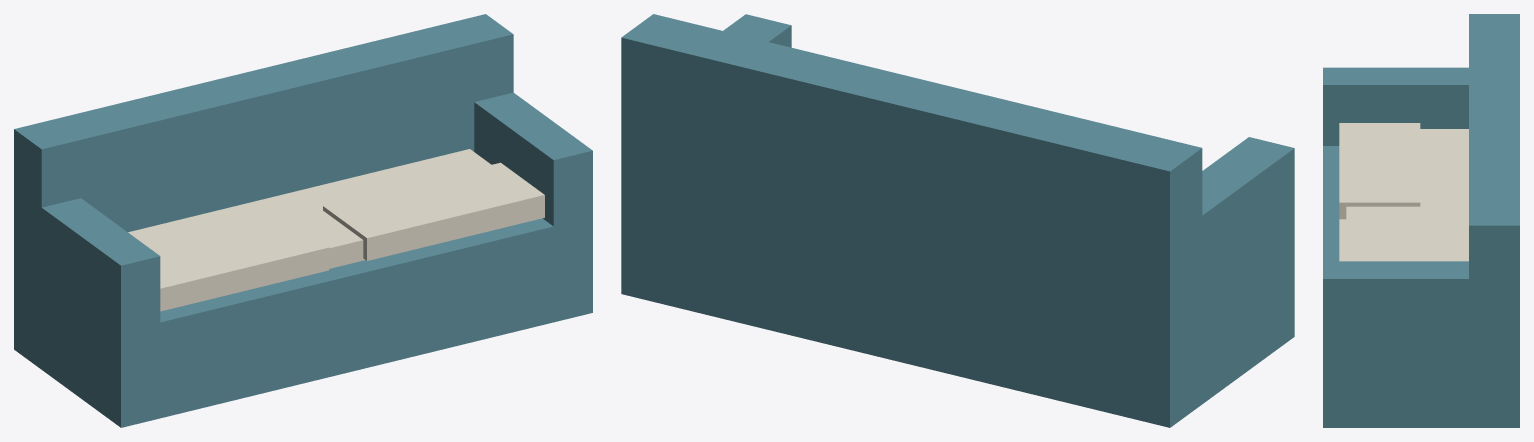
The model's file is mdl_furniture_sofa_001.glb.
3 views of the same model, side by side, from view 1: azimuth 30°, elevation 25°; view 2: azimuth 150°, elevation 25°; view 3: azimuth 270°, elevation 25° (orthographic). The views are drawn at different scales.
Parts seen in each view (by area): view 1: m_petroleo, m_crema; view 2: m_petroleo; view 3: m_petroleo, m_crema.
Boxes of the visible parts, <box> form: m_petroleo: <box>14,14,592,427</box>; m_crema: <box>128,149,544,311</box>; m_petroleo: <box>621,14,1294,427</box>; m_petroleo: <box>1323,14,1519,427</box>; m_crema: <box>1339,123,1468,261</box>.
Size of the model in its own units: 2.16 by 0.965 by 0.85.
